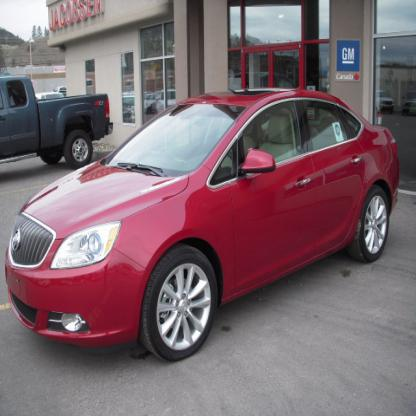Vehicle: (7, 88, 402, 363)
